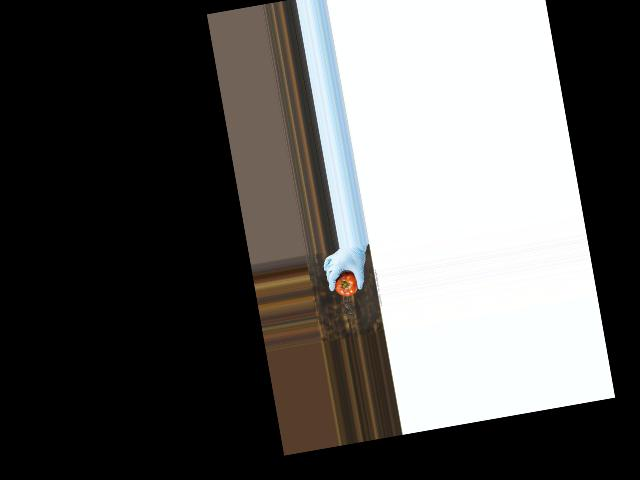tomato: (332, 270, 359, 298)
